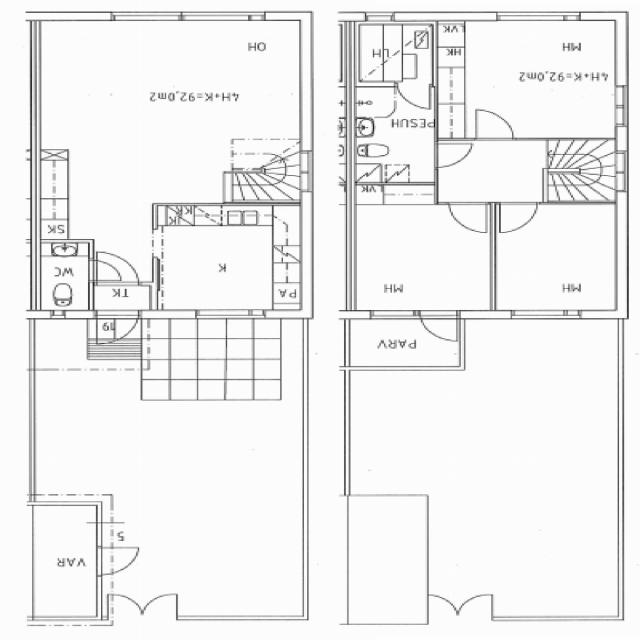door: (97, 310, 138, 348), (96, 250, 139, 286), (421, 310, 458, 346), (97, 547, 141, 575), (475, 110, 513, 141), (500, 201, 537, 232), (450, 201, 486, 231), (142, 590, 177, 620), (108, 590, 142, 620), (398, 82, 429, 110), (434, 145, 471, 168), (88, 260, 121, 280)
